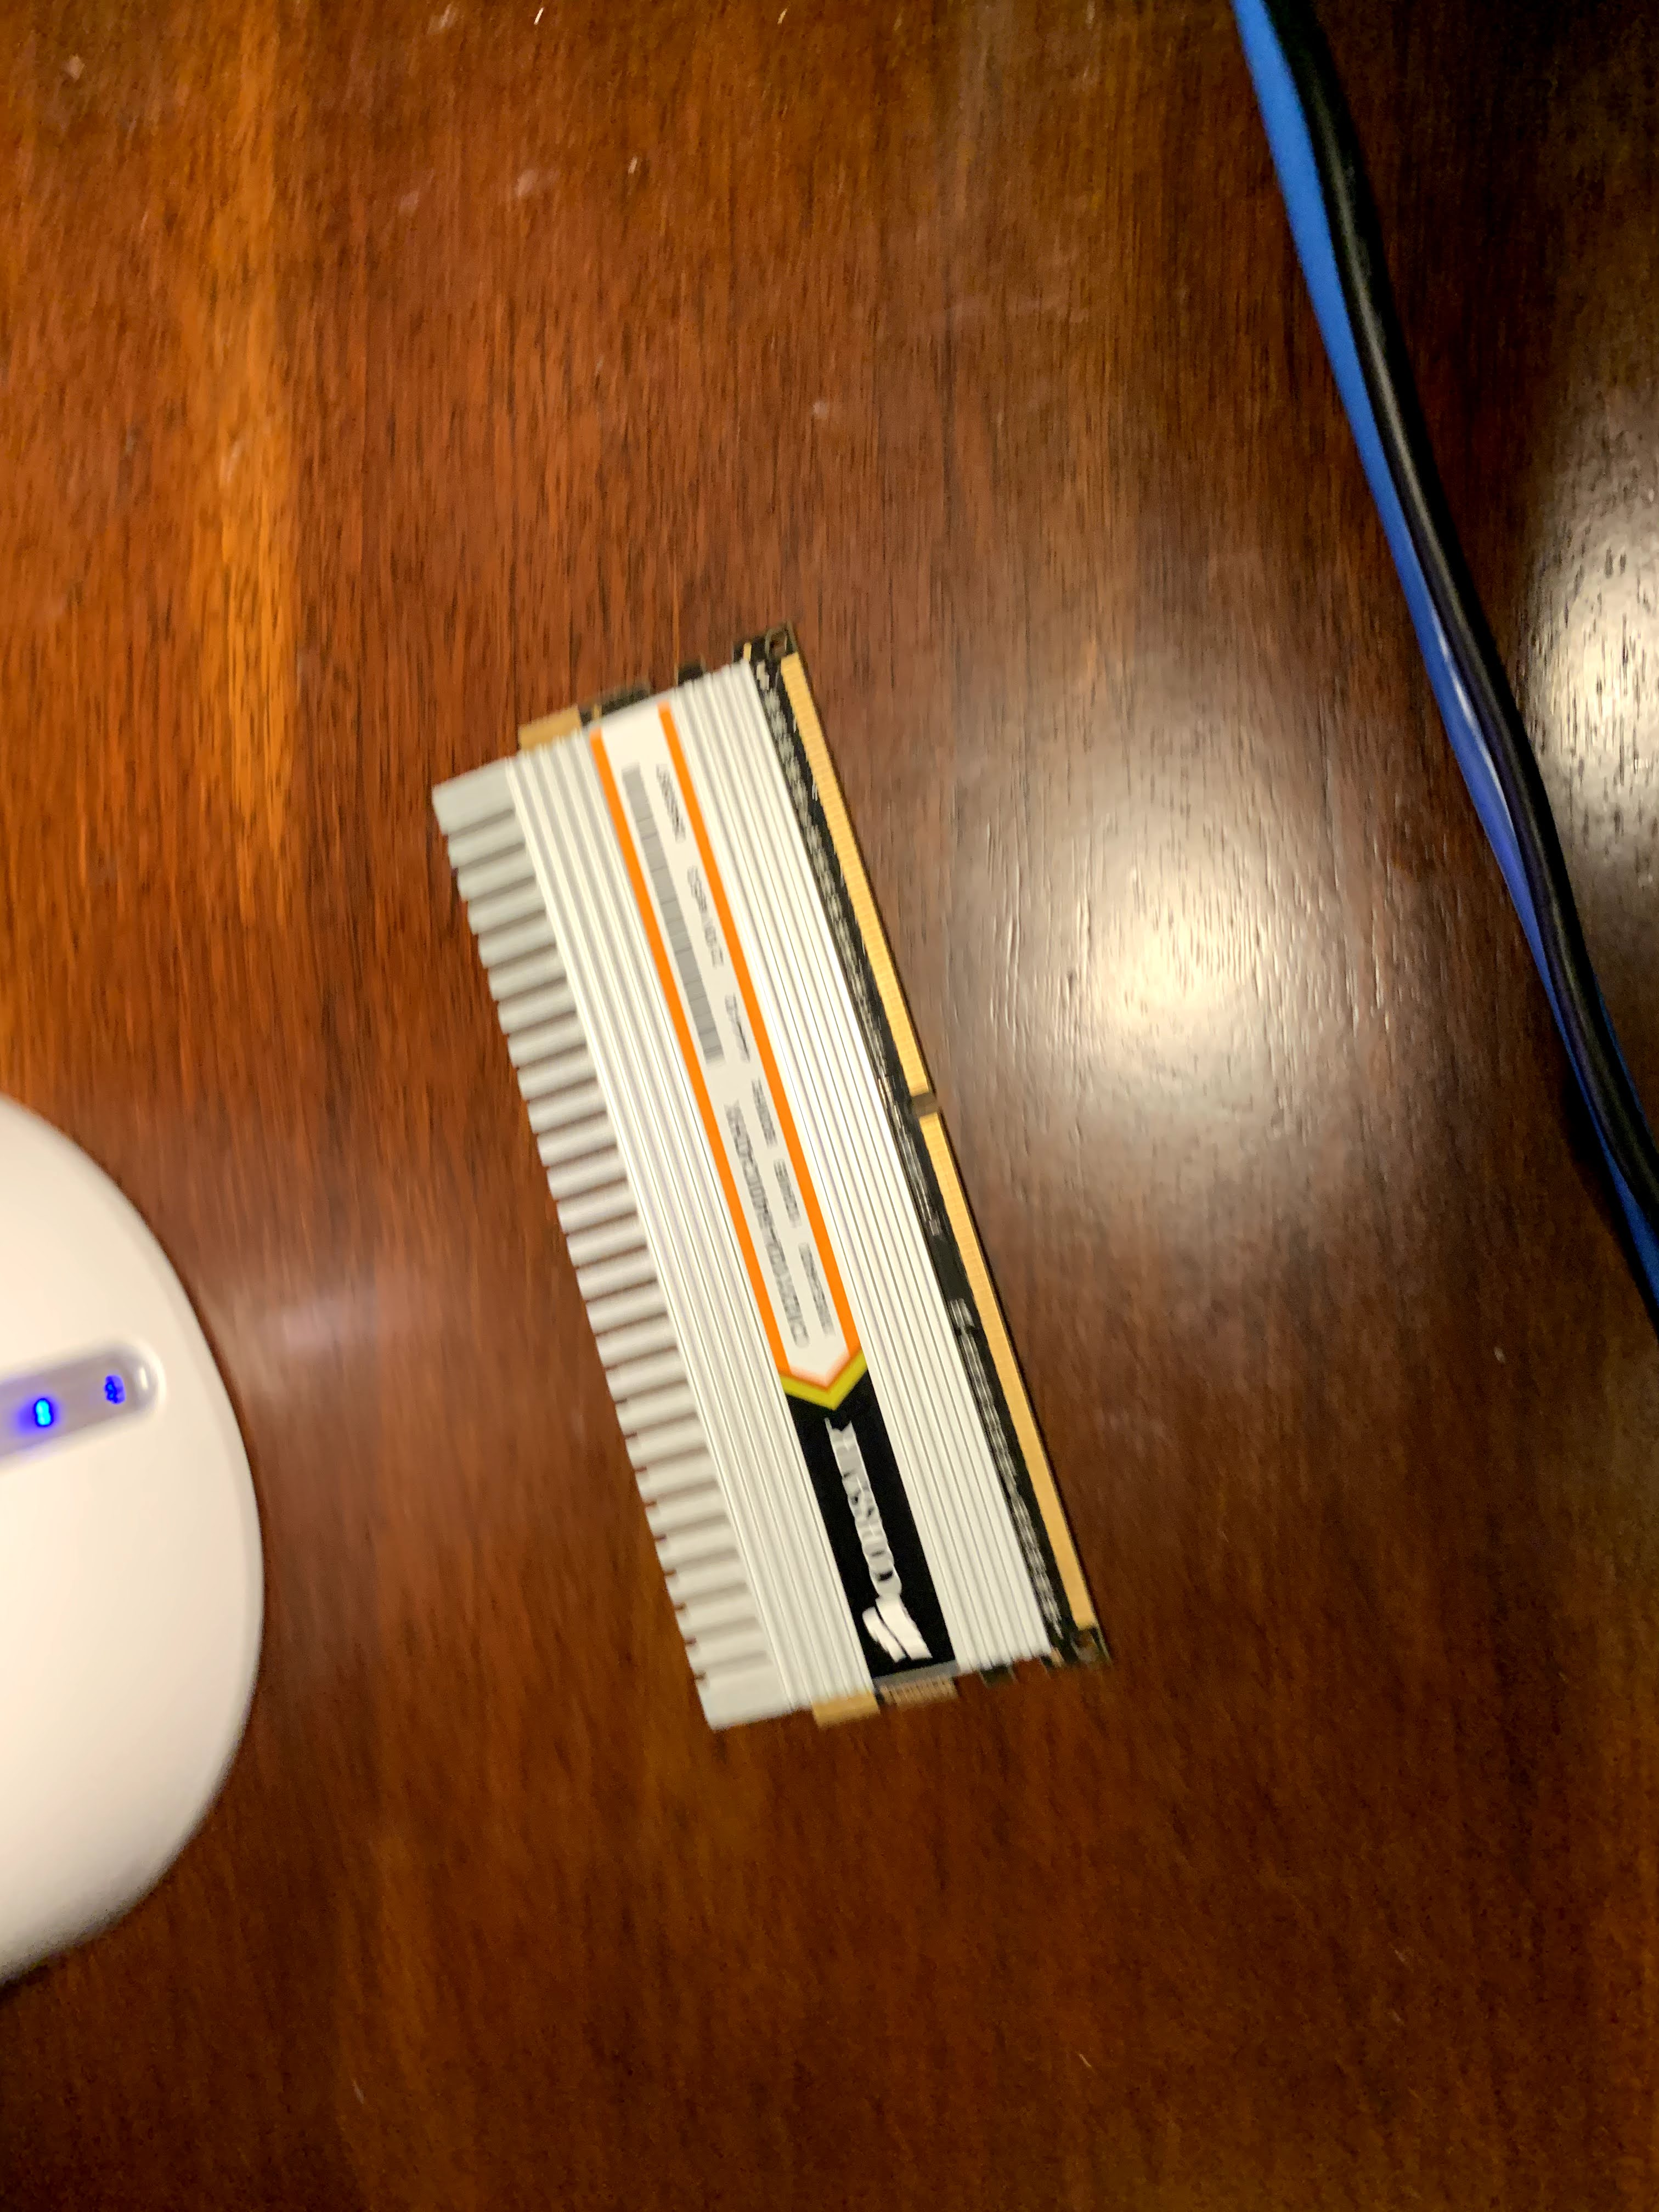Space-debris-medium: (347, 615, 1150, 1740)
